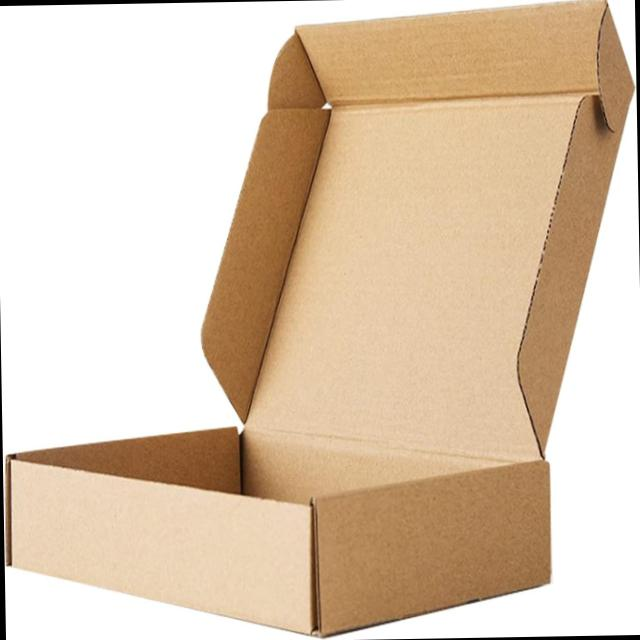cardboard_box: (4, 2, 635, 639)
